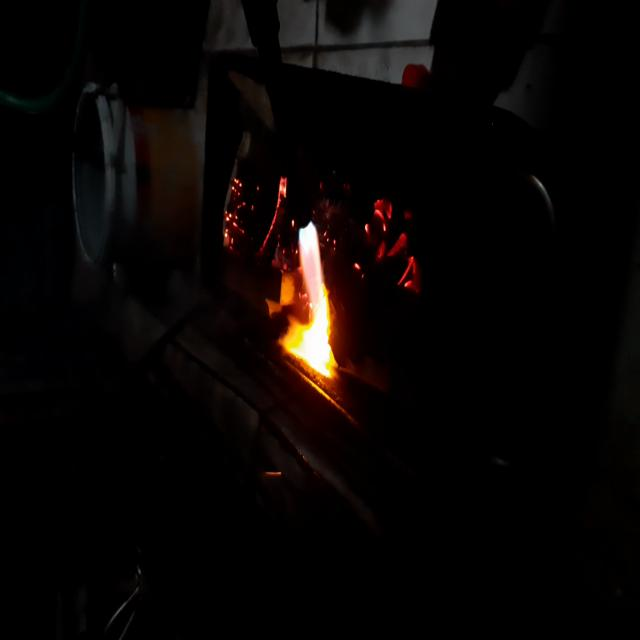Fire: (269, 190, 344, 396), (350, 180, 430, 290)
